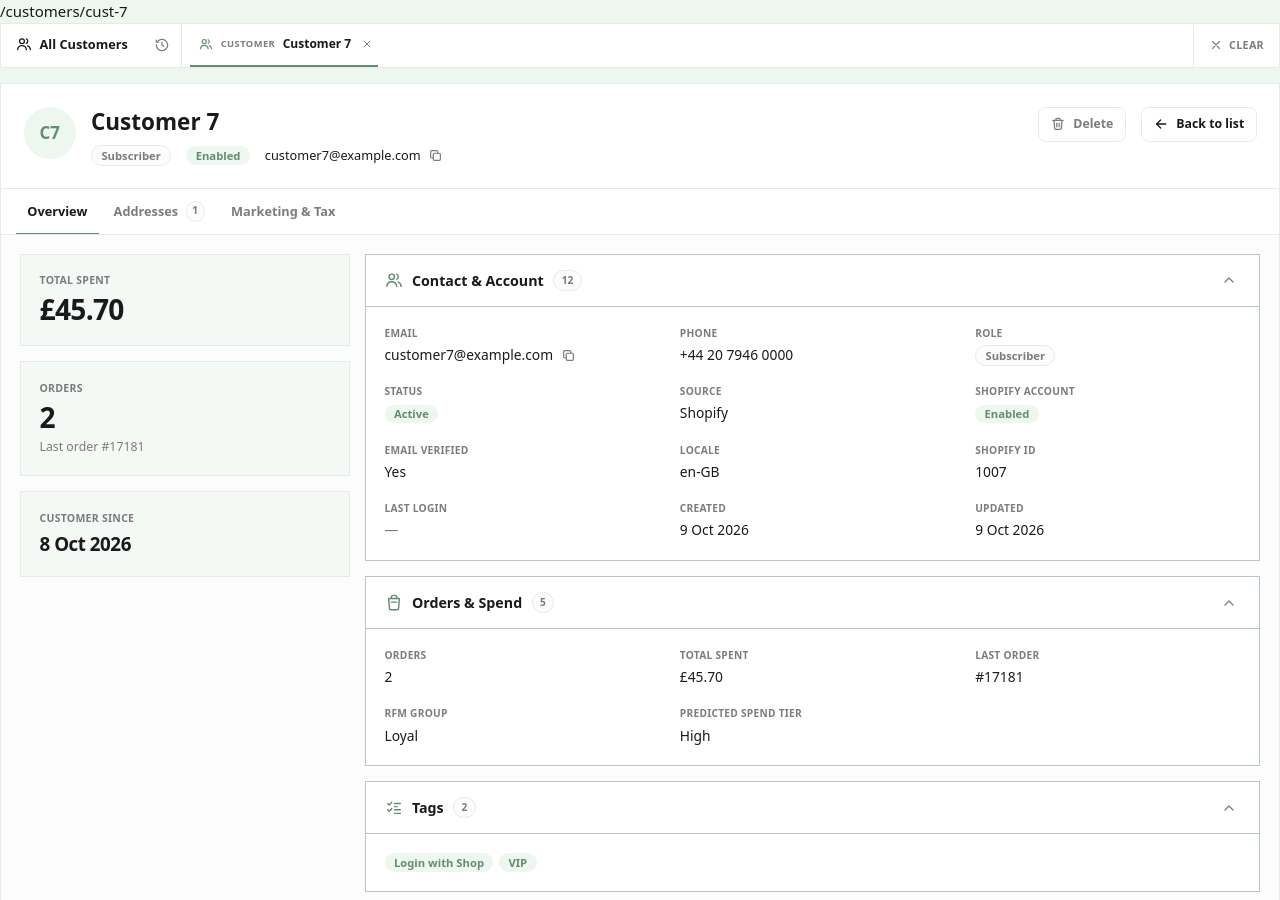
it: Customer details › shows addresses, marketing & tax, and an empty state when there are no addresses
Expected: the heading "Contact & Account" is shown, left=412, top=270, right=544, bottom=291
Click the tab "Addresses 1". click: [159, 212]
box: left=102, top=189, right=216, bottom=235
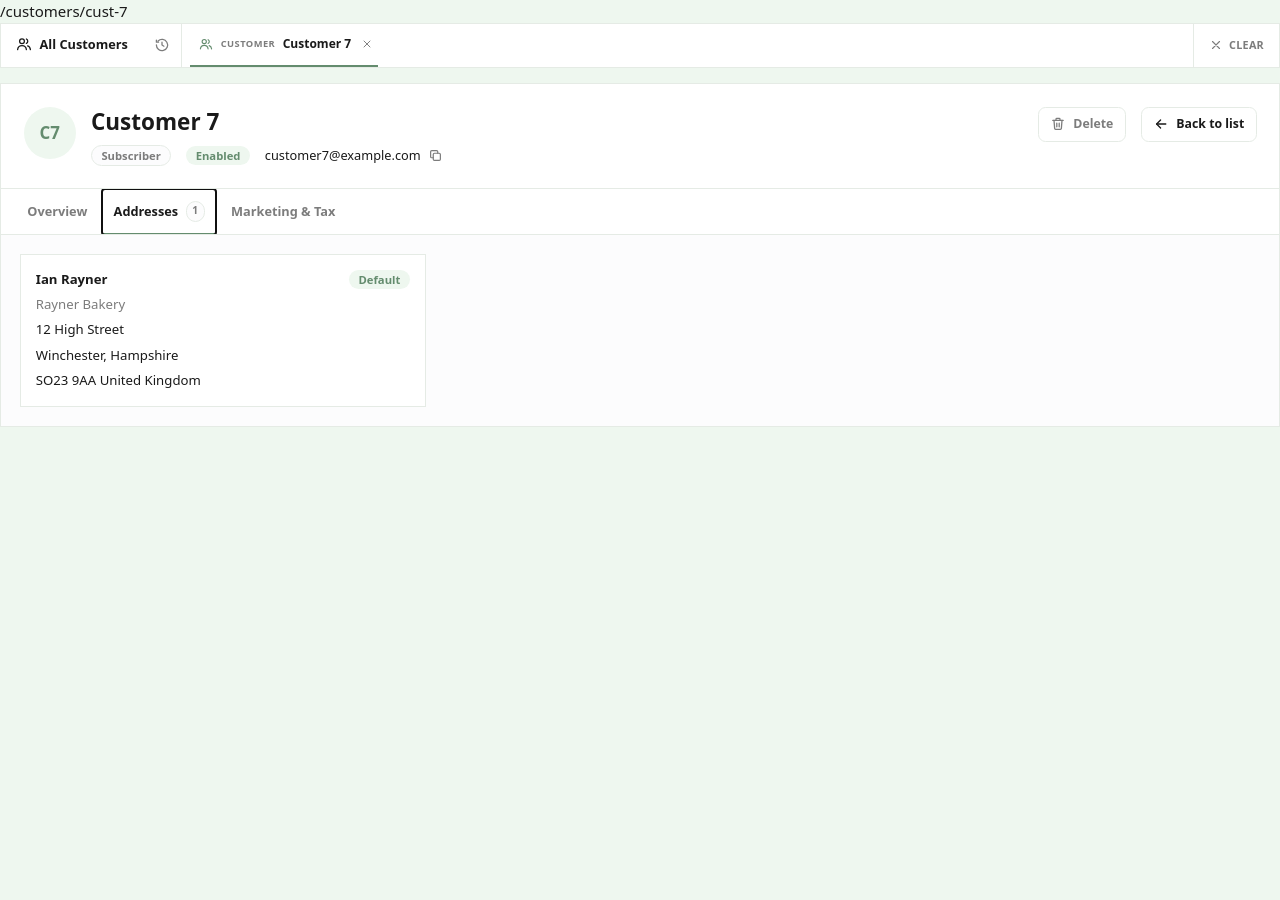
Now the text "12 High Street" is shown, box left=36, top=320, right=124, bottom=338
Now the text "Winchester, Hampshire" is shown, box left=36, top=346, right=178, bottom=364
Now the text "SO23 9AA United Kingdom" is shown, box left=36, top=371, right=201, bottom=389
Click the tab "Marketing & Tax". click: [283, 212]
box: left=220, top=189, right=347, bottom=235
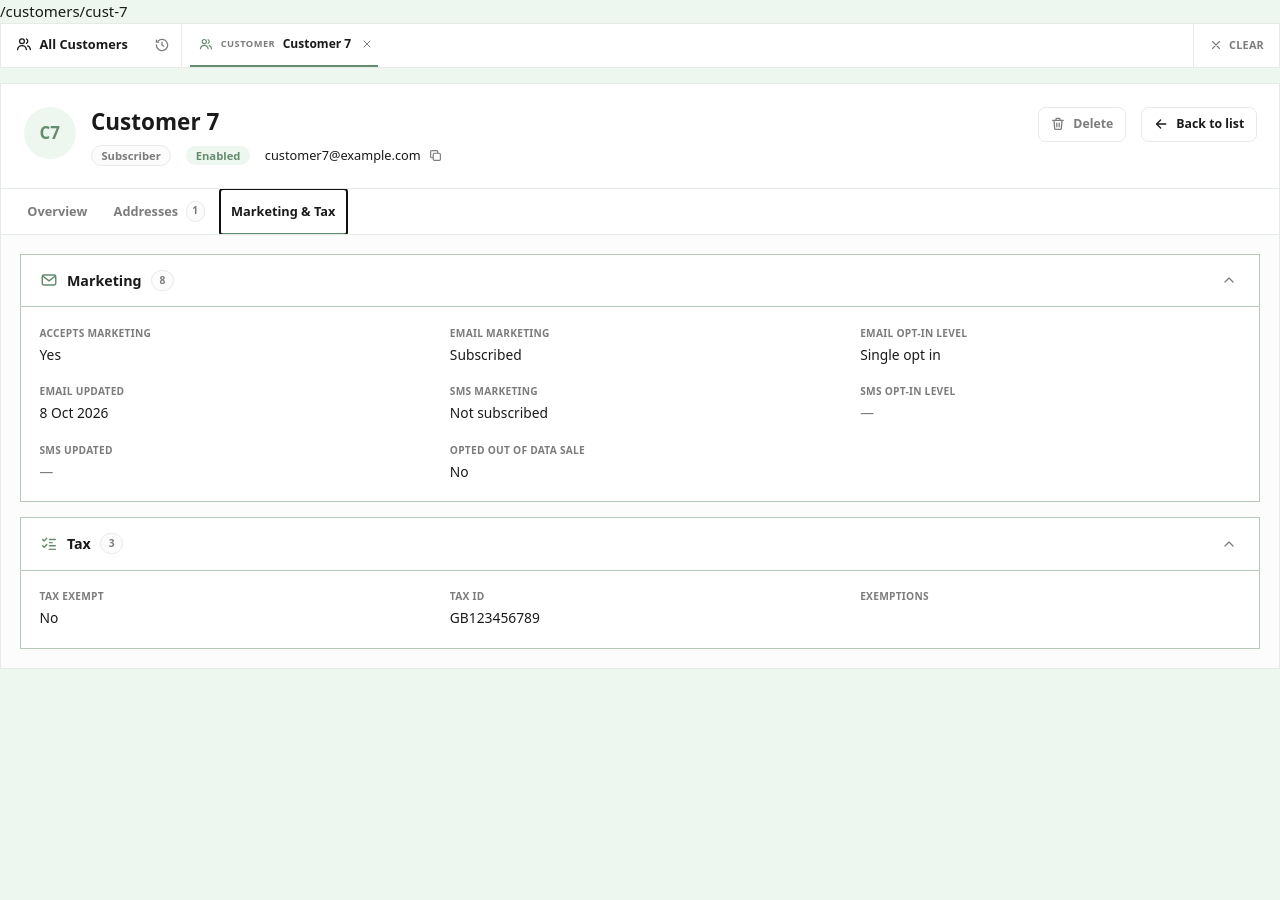
Now the text "Single opt in" is shown, box left=860, top=345, right=941, bottom=364
Now the text "GB123456789" is shown, box left=450, top=608, right=540, bottom=627
